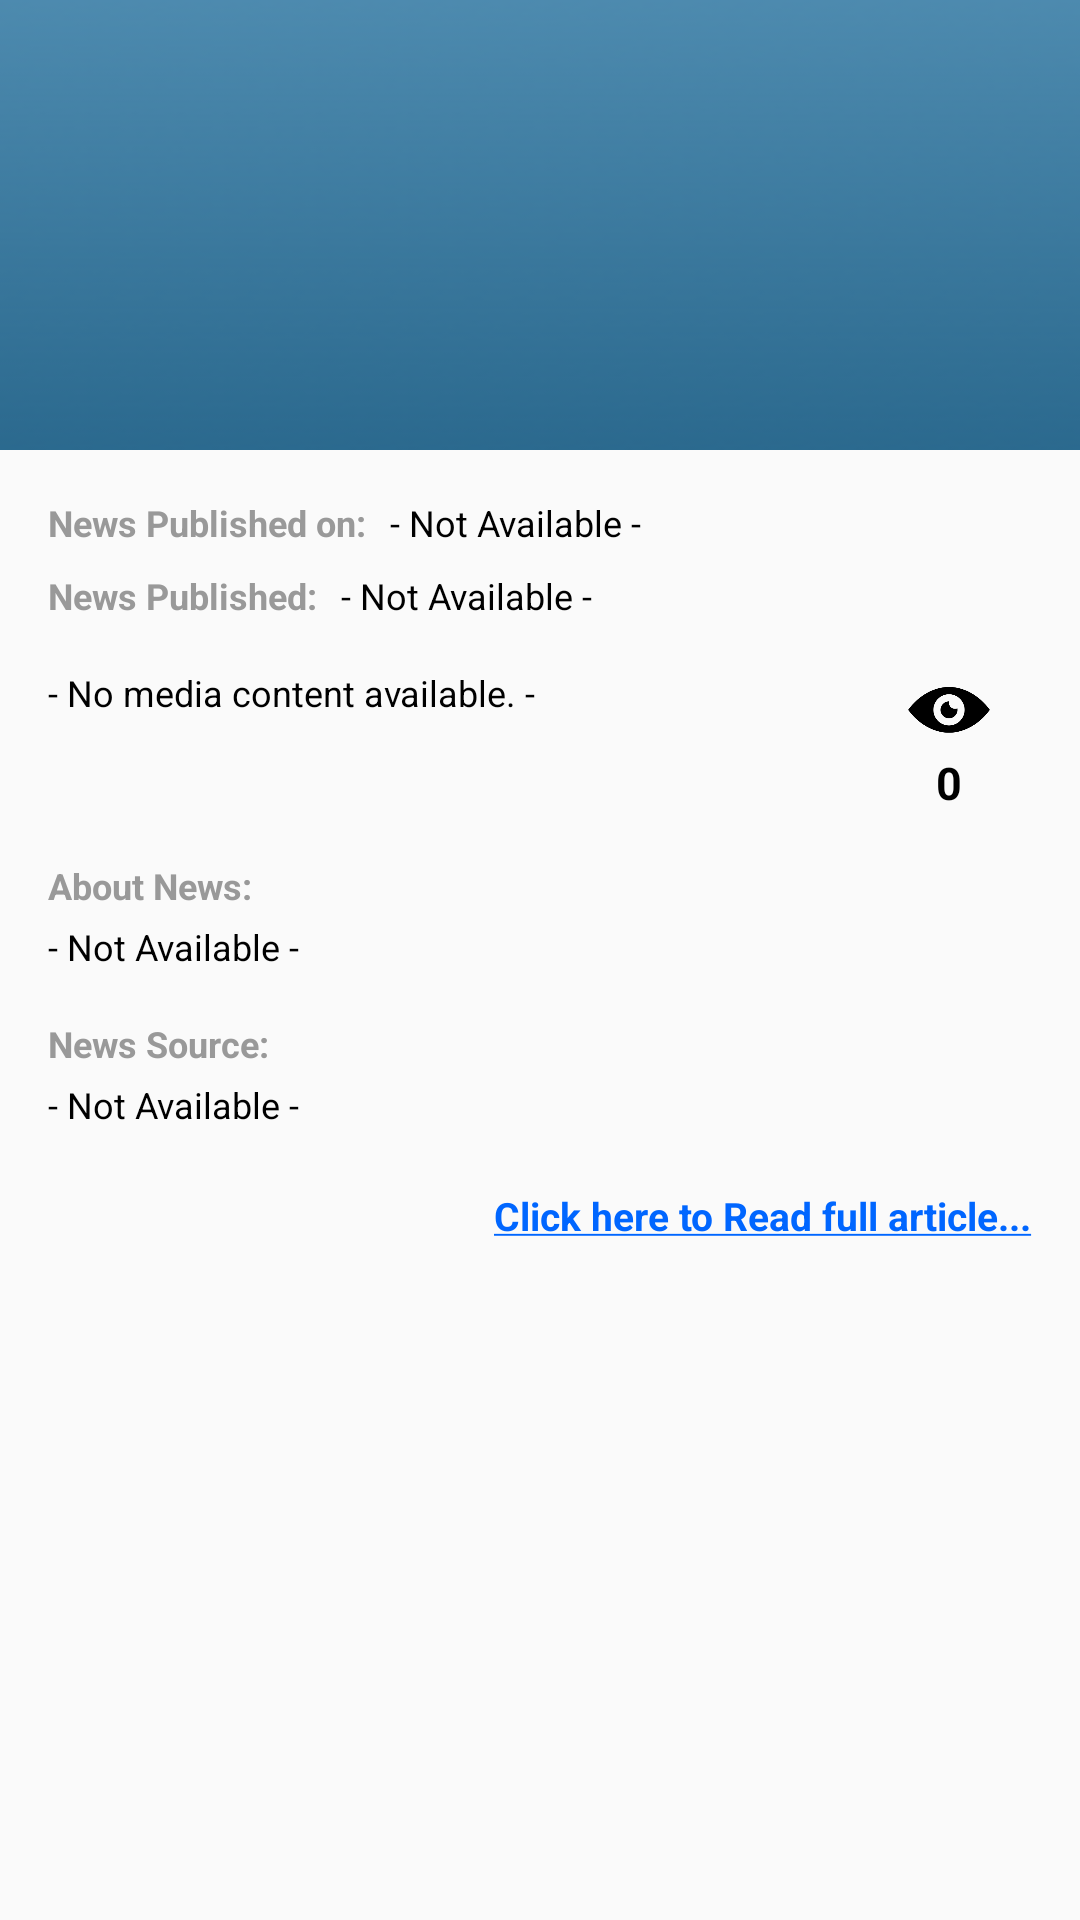

Icon click points for this 1080px x 1920px phone screenshot, format [x,y]:
news viewed: [949,710]
